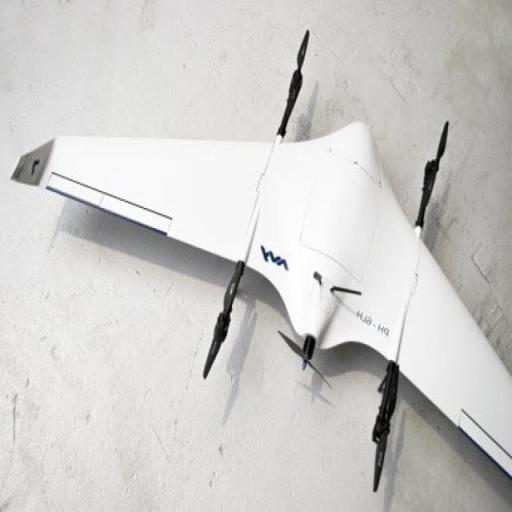uav: (8, 28, 510, 510)
